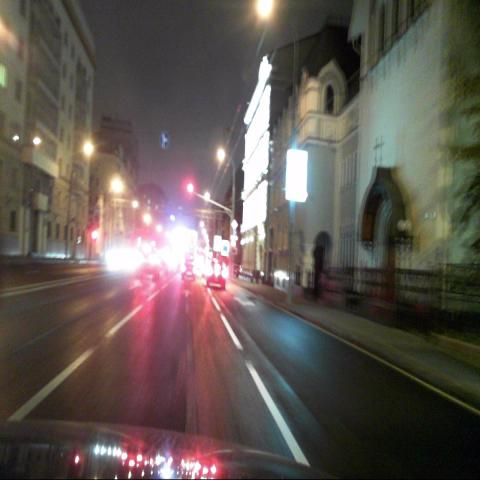4_1_4: (159, 131, 169, 148)
